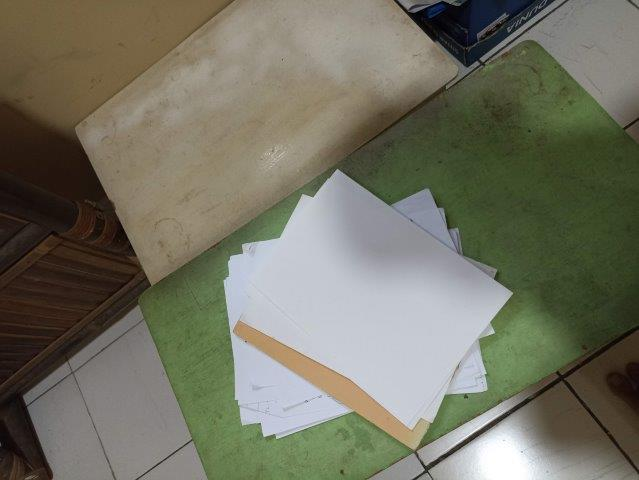kertas: (224, 169, 514, 451)
